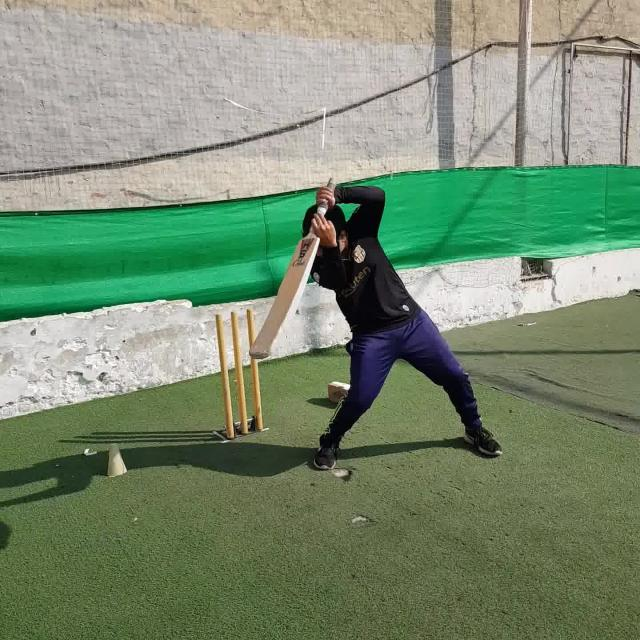bat: (246, 176, 339, 359)
